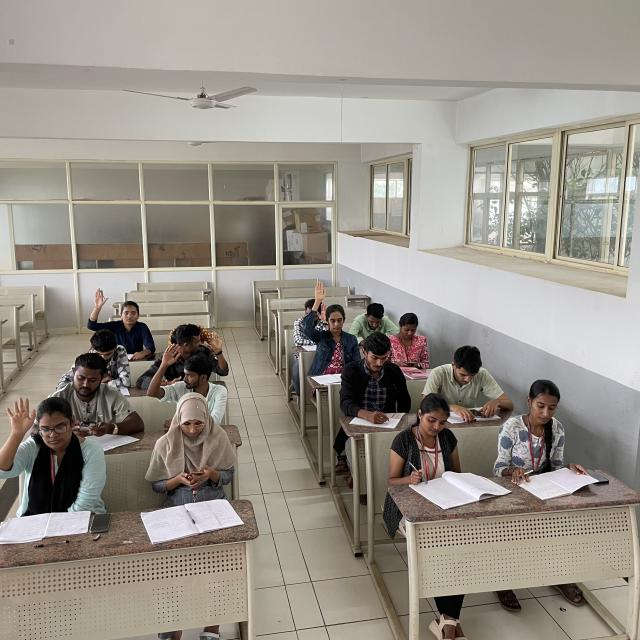Hand Rising: (0, 391, 102, 511), (148, 337, 228, 416), (299, 278, 357, 368), (86, 288, 156, 351)
Reading: (494, 371, 592, 489), (393, 395, 500, 503)
Using Phone: (149, 388, 244, 494), (65, 349, 147, 434), (424, 338, 511, 418), (387, 310, 435, 364)
Writing: (341, 328, 411, 426)
